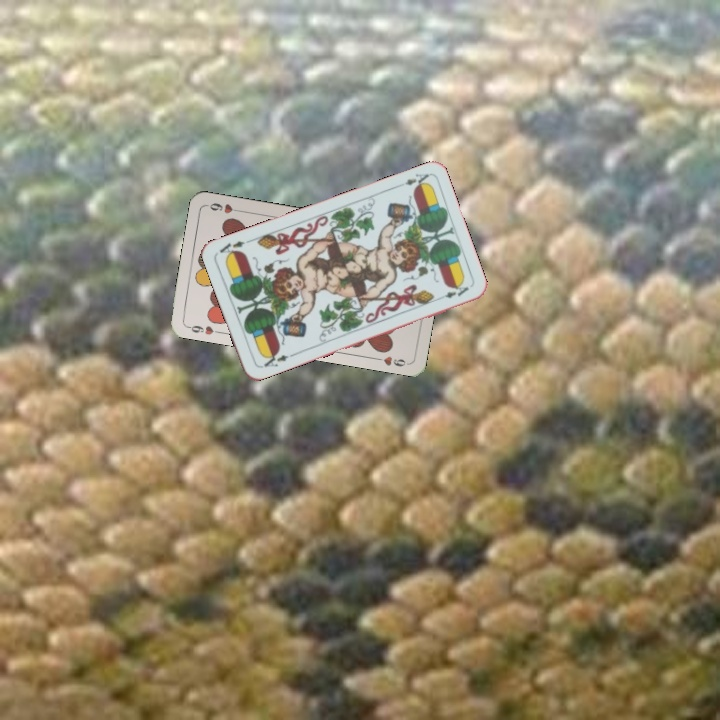EA: (257, 347, 296, 371), (393, 169, 431, 191)
H9: (183, 321, 224, 338)
